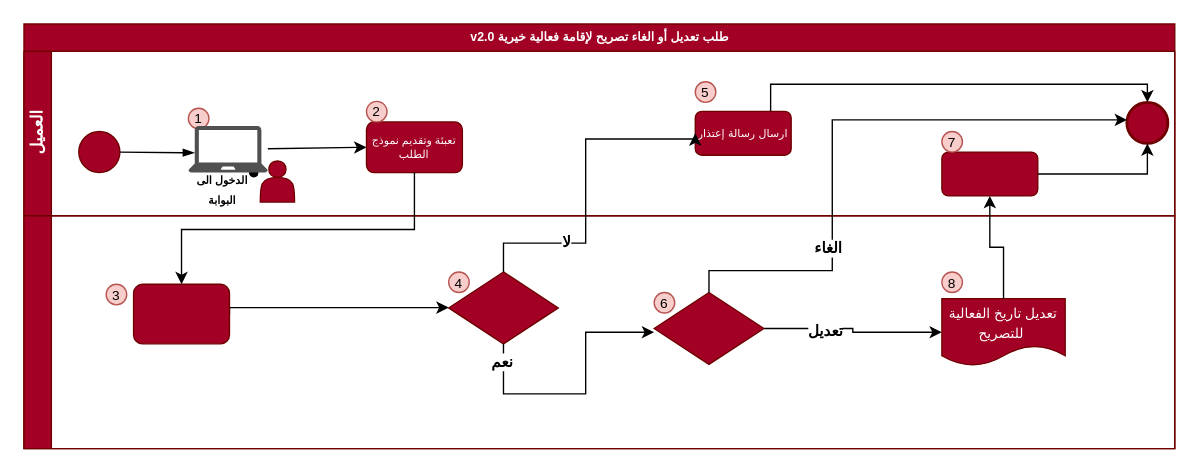
Some shapes in this 1199 by 473 pixel diagram are drawn without their labels. Each missing label, with the box of its shape:
اشعار العميل بالموافقة (مرفق تصريح في حالة التعديل): (941, 151, 1038, 196)
اغلاق: (1125, 100, 1169, 144)
بداية: (77, 130, 120, 173)
تعديل أو الغاء؟: (653, 291, 764, 364)
رئيس القسم: (23, 214, 1175, 449)
مراجعة الطلب: (132, 283, 229, 344)
موافقة؟: (447, 271, 558, 344)
